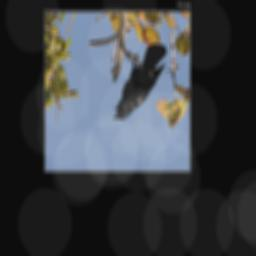Crow: (112, 43, 166, 121)
